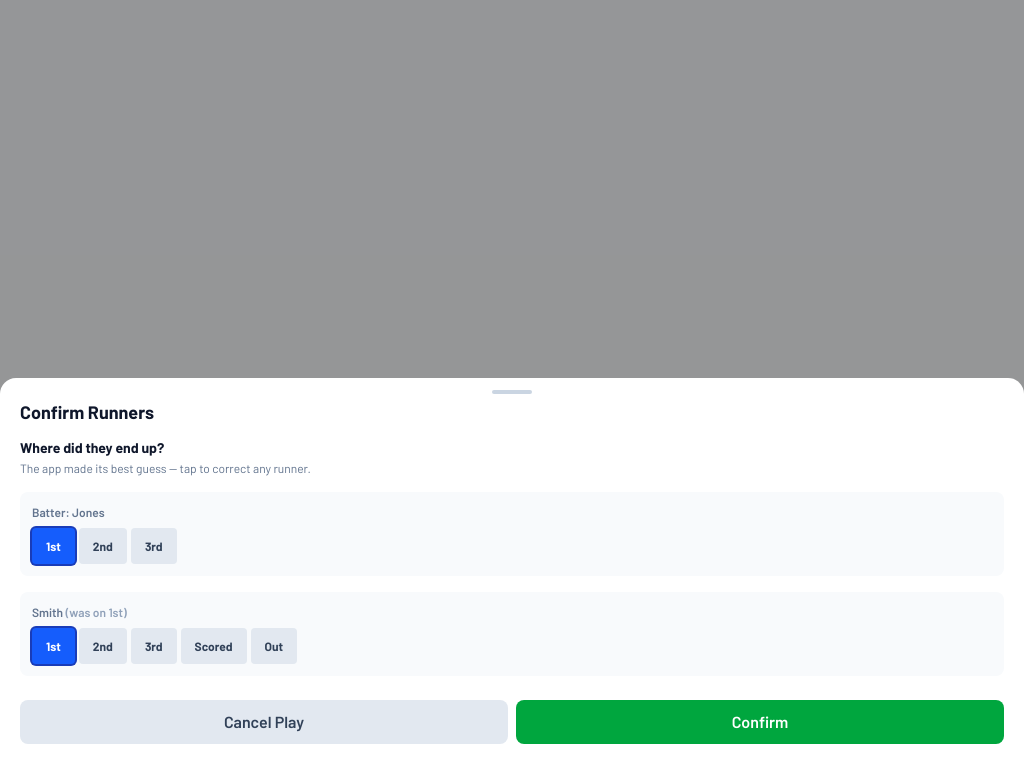
Test: RunnerConfirmation › batter base advancement › includes batter base in collision detection with runners
Click the button "1st" below "Smith" at (53, 646), box [32,628,75,664]
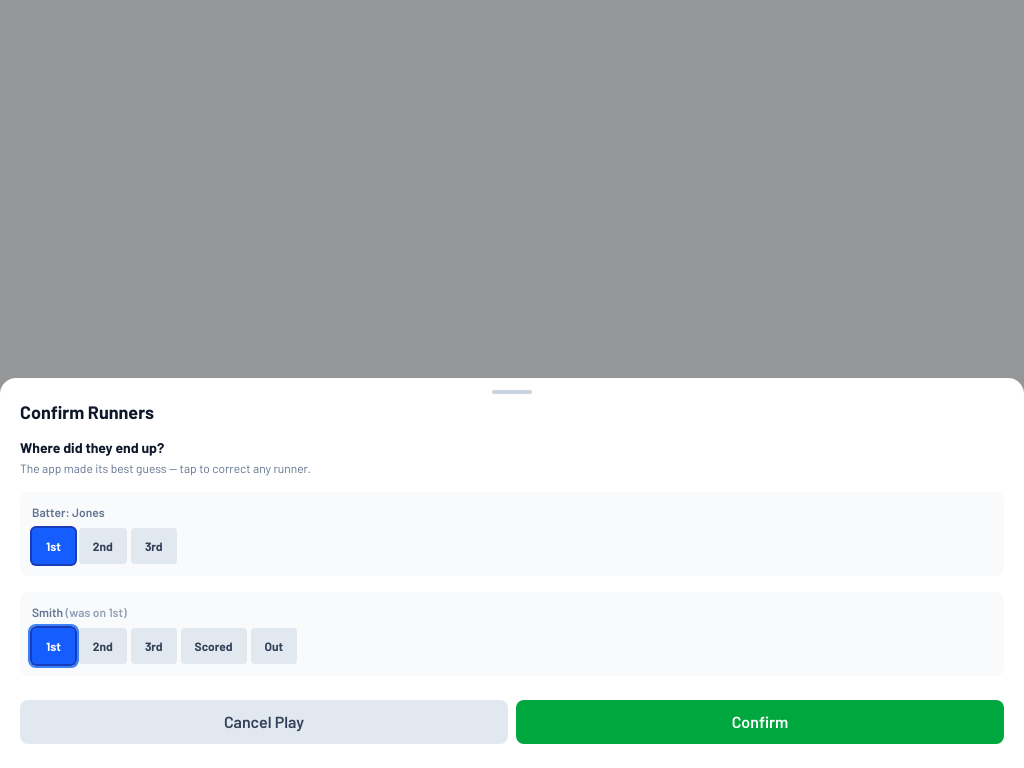
Click the button "Confirm" at (760, 722), box [516,700,1004,744]
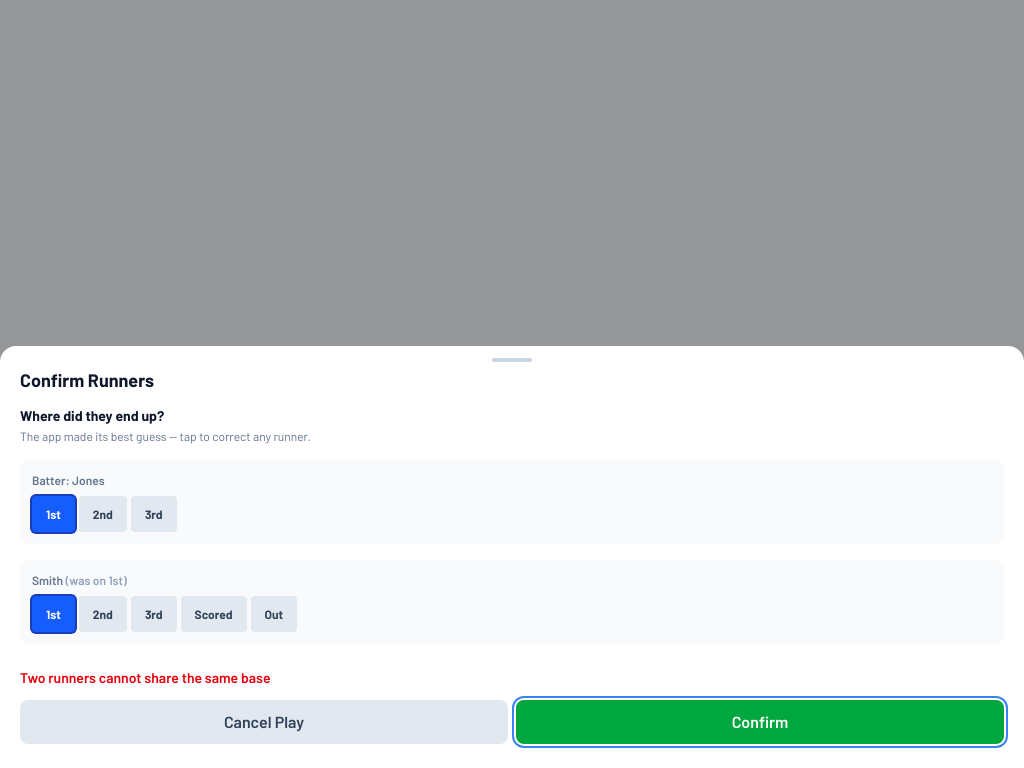
Expected: the text "Two runners cannot share the same base" is shown, [20,669,271,686]
